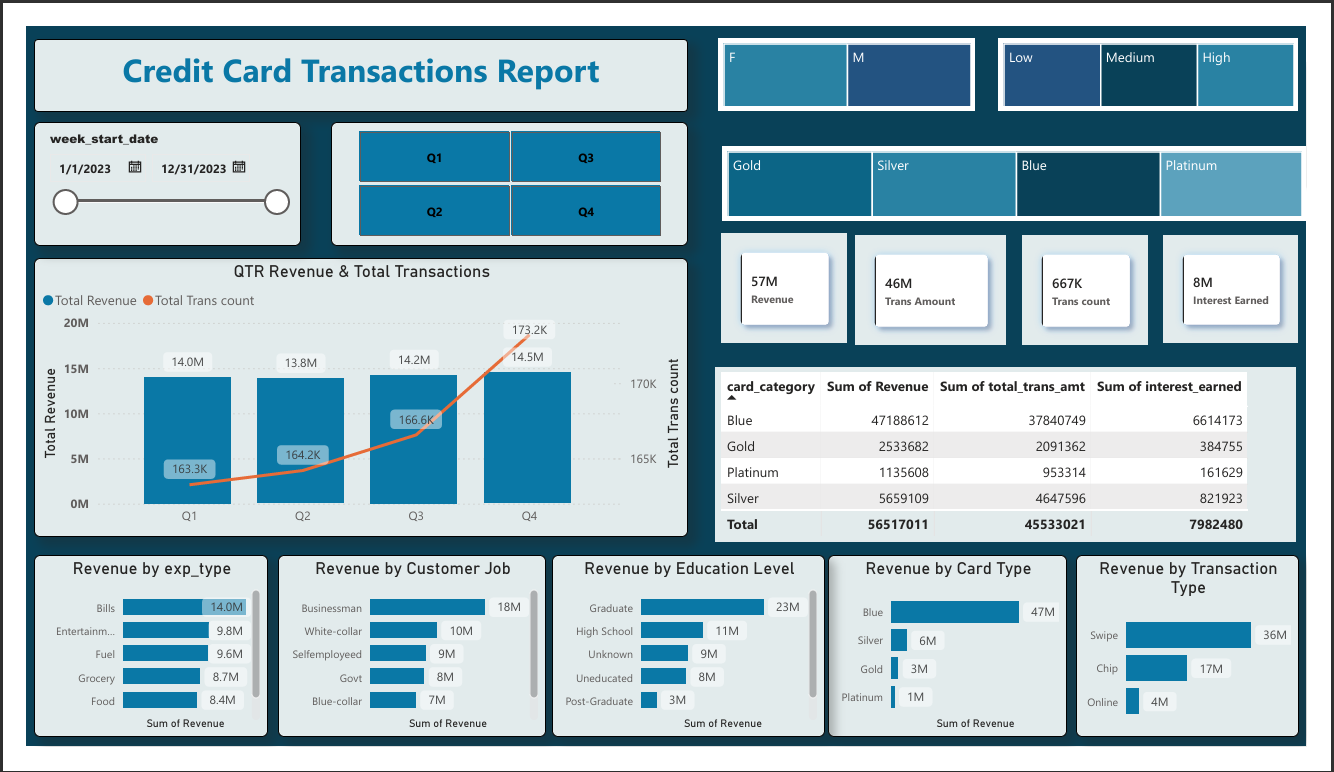

The page's visual inventory and layout, read from the dashboard file:
{"tool":"powerbi","page":{"name":"Credit card transactions","canvas":[1280,720],"ordinal":1},"visuals":[{"type":"textbox","box":[6.8,11.7,654.6,72.9],"z":0},{"type":"lineStackedColumnComboChart","title":"QTR Revenue & Total Transactions","fields":{"Category":["public cc_detail.qtr"],"Y":["Sum(public cc_detail.Revenue)"],"Y2":["Sum(public cc_detail.total_trans_ct)"]},"box":[6.8,230.5,654.6,279.1],"z":1000},{"type":"barChart","title":"Revenue by exp_type","fields":{"Y":["Sum(public cc_detail.Revenue)"],"Category":["public cc_detail.exp_type"]},"box":[6.8,528.1,234.4,181.9],"z":2000},{"type":"barChart","title":"Revenue by Customer Job","fields":{"Y":["Sum(public cc_detail.Revenue)"],"Category":["public cust_detail.customer_job"]},"box":[250.9,528.1,268.4,181.9],"z":3000},{"type":"barChart","title":"Revenue by Card Type","fields":{"Y":["Sum(public cc_detail.Revenue)"],"Category":["public cc_detail.card_category"]},"box":[801.5,528.1,238.3,181.9],"z":4000},{"type":"barChart","title":"Revenue by Education Level","fields":{"Y":["Sum(public cc_detail.Revenue)"],"Category":["public cust_detail.education_level"]},"box":[525.2,528.1,272.3,181.9],"z":5000},{"type":"barChart","title":"Revenue by Transaction Type","fields":{"Y":["Sum(public cc_detail.Revenue)"],"Category":["public cc_detail.use_chip"]},"box":[1048.5,528.1,223.7,181.9],"z":6000},{"type":"tableEx","fields":{"Values":["public cc_detail.card_category","Sum(public cc_detail.Revenue)","Sum(public cc_detail.total_trans_amt)","Sum(public cc_detail.interest_earned)"]},"box":[688.6,341.4,581.6,175.1],"z":7000},{"type":"cardVisual","fields":{"Data":["Sum(public cc_detail.Revenue)"]},"box":[695.4,207.2,125.5,109.9],"z":8000},{"type":"cardVisual","fields":{"Data":["Sum(public cc_detail.total_trans_amt)"]},"box":[828.7,209.1,151.7,109.9],"z":9000},{"type":"cardVisual","fields":{"Data":["Sum(public cc_detail.interest_earned)"]},"box":[1137,209.1,135.2,108],"z":10000},{"type":"cardVisual","fields":{"Data":["Sum(public cc_detail.total_trans_ct)"]},"box":[996,209.1,126.4,109.9],"z":11000},{"type":"slicer","fields":{"Values":["public cc_detail.week_start_date"]},"box":[6.8,95.3,267.5,123.5],"z":12000},{"type":"treemap","fields":{"Values":["Avg(public cc_detail.client_num)"],"Group":["public cust_detail.gender"]},"box":[691.6,11.7,257.8,72.9],"z":13000},{"type":"treemap","fields":{"Values":["Avg(public cc_detail.client_num)"],"Group":["public cc_detail.card_category"]},"box":[696.4,119.6,583.6,74.9],"z":14000},{"type":"treemap","fields":{"Values":["Avg(public cc_detail.client_num)"],"Group":["public cust_detail.Income_Group"]},"box":[971.7,11.7,300.5,72.9],"z":15000},{"type":"slicer","fields":{"Values":["public cc_detail.qtr"]},"box":[304.4,95.3,357,123.5],"z":16000}]}

Visuals, with their boxes in screenshot pixels (x1, y1, x2, y2), scaled from the page's 1280x720 canvas onto the 1334x772 screenshot:
textbox: rect(7, 13, 689, 91)
"QTR Revenue & Total Transactions" lineStackedColumnComboChart: rect(7, 247, 689, 546)
"Revenue by exp_type" barChart: rect(7, 566, 251, 761)
"Revenue by Customer Job" barChart: rect(261, 566, 541, 761)
"Revenue by Card Type" barChart: rect(835, 566, 1084, 761)
"Revenue by Education Level" barChart: rect(547, 566, 831, 761)
"Revenue by Transaction Type" barChart: rect(1093, 566, 1326, 761)
tableEx - public cc_detail.card_category x Sum(public cc_detail.Revenue): rect(718, 366, 1324, 554)
cardVisual - Sum(public cc_detail.Revenue): rect(725, 222, 856, 340)
cardVisual - Sum(public cc_detail.total_trans_amt): rect(864, 224, 1022, 342)
cardVisual - Sum(public cc_detail.interest_earned): rect(1185, 224, 1326, 340)
cardVisual - Sum(public cc_detail.total_trans_ct): rect(1038, 224, 1170, 342)
slicer - public cc_detail.week_start_date: rect(7, 102, 286, 235)
treemap - Avg(public cc_detail.client_num) x public cust_detail.gender: rect(721, 13, 989, 91)
treemap - Avg(public cc_detail.client_num) x public cc_detail.card_category: rect(726, 128, 1333, 209)
treemap - Avg(public cc_detail.client_num) x public cust_detail.Income_Group: rect(1013, 13, 1326, 91)
slicer - public cc_detail.qtr: rect(317, 102, 689, 235)
